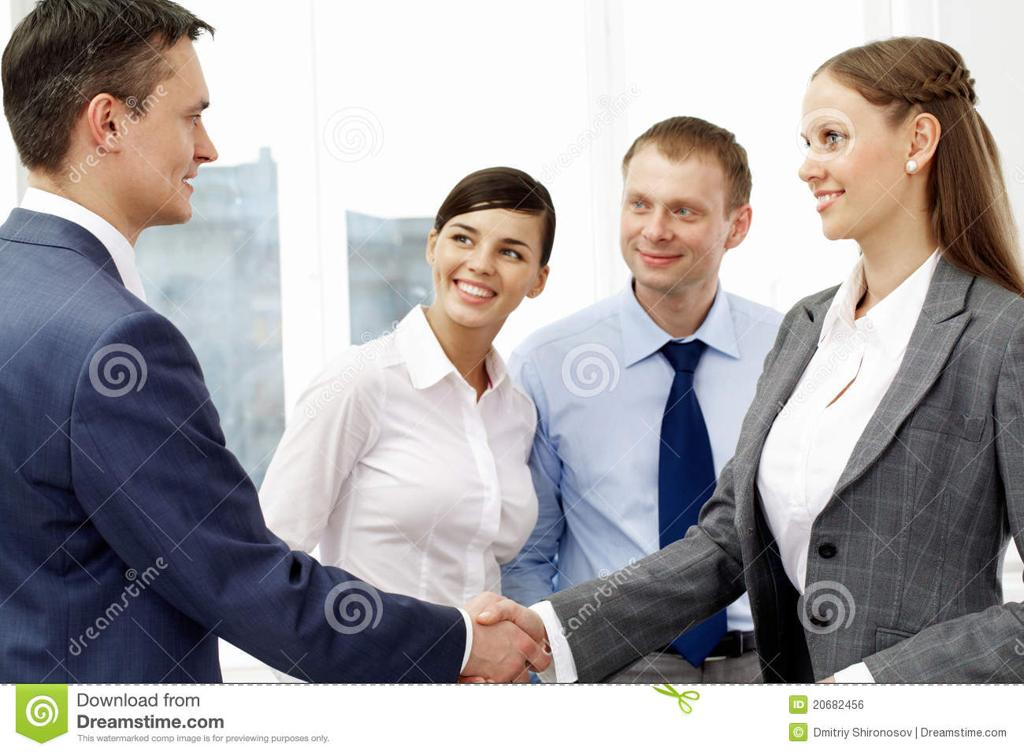face: (798, 64, 902, 240), (140, 30, 218, 226), (622, 144, 722, 286), (438, 198, 536, 326)
